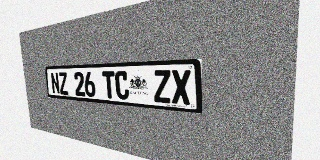2: (73, 72, 85, 96)
6: (83, 71, 96, 97)
C: (114, 71, 129, 100)
N: (50, 72, 60, 94)
T: (102, 71, 116, 99)
X: (171, 70, 191, 105)
Z: (153, 70, 171, 103), (58, 72, 69, 95)
